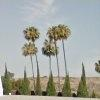Palm tree: (17, 16, 85, 75)
